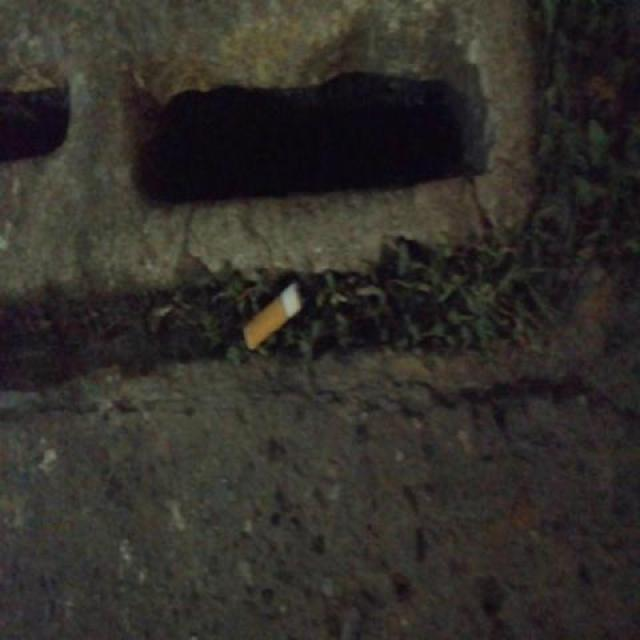non-organic waste: (238, 277, 310, 354)
